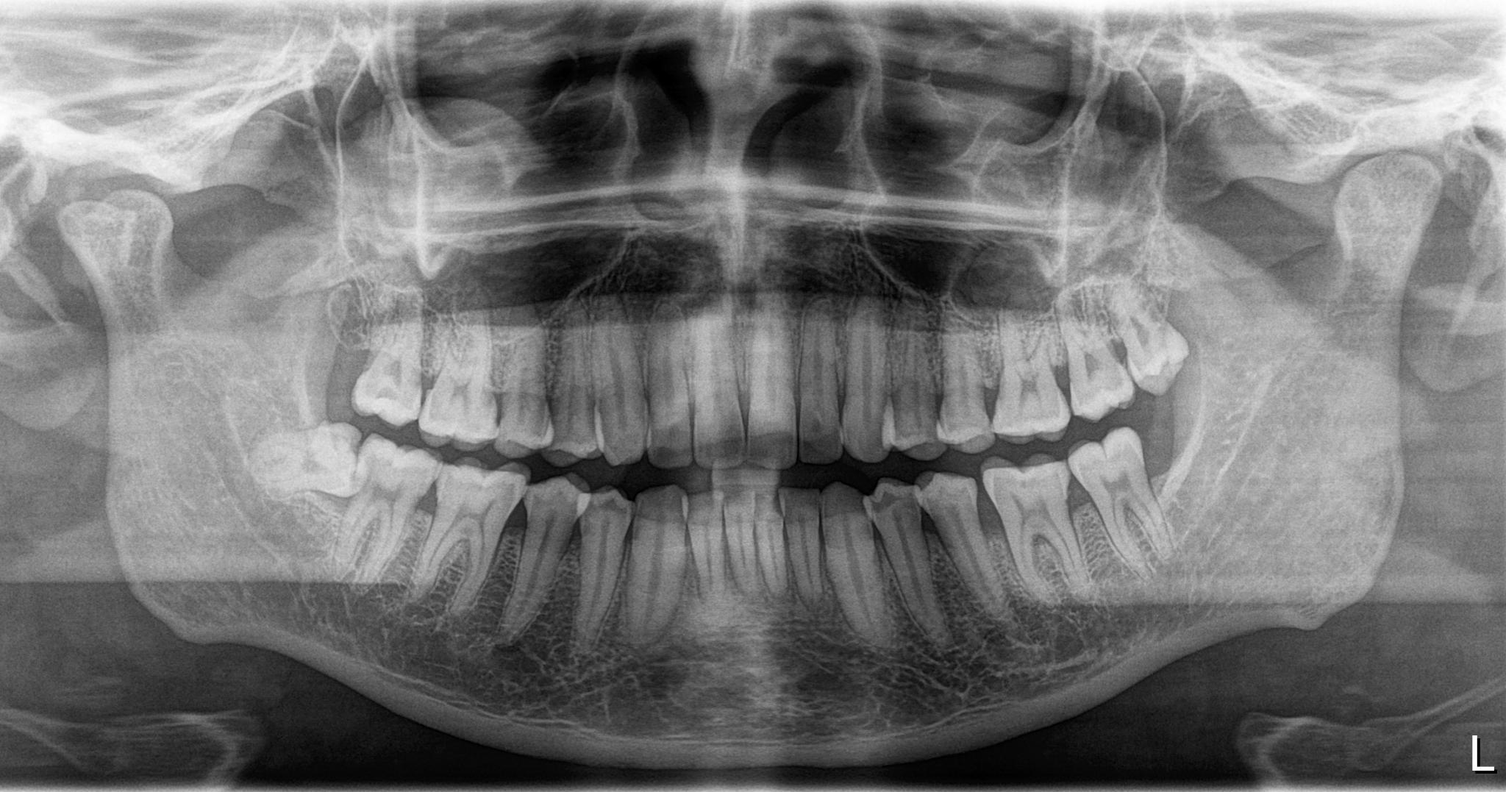Impacted Third Molar: (254, 425, 373, 495)
